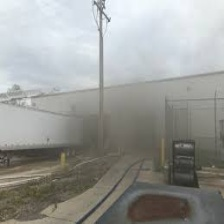smoke: (71, 83, 152, 166)
